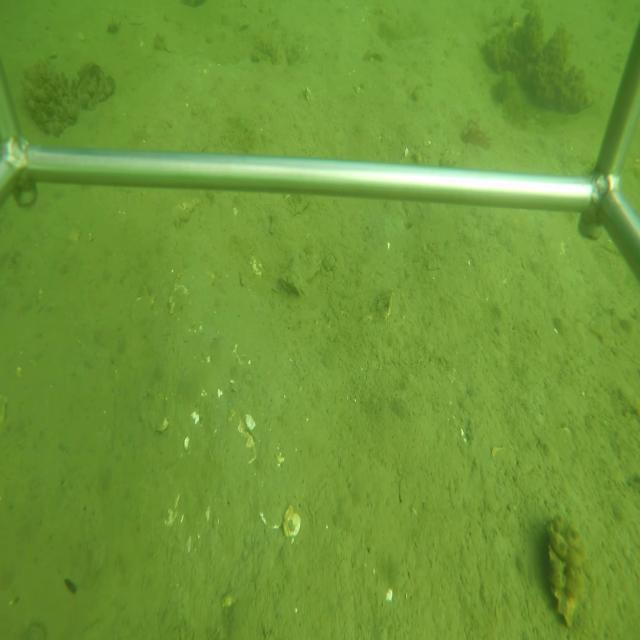Oyster-Indeterminate: (546, 508, 586, 631)
